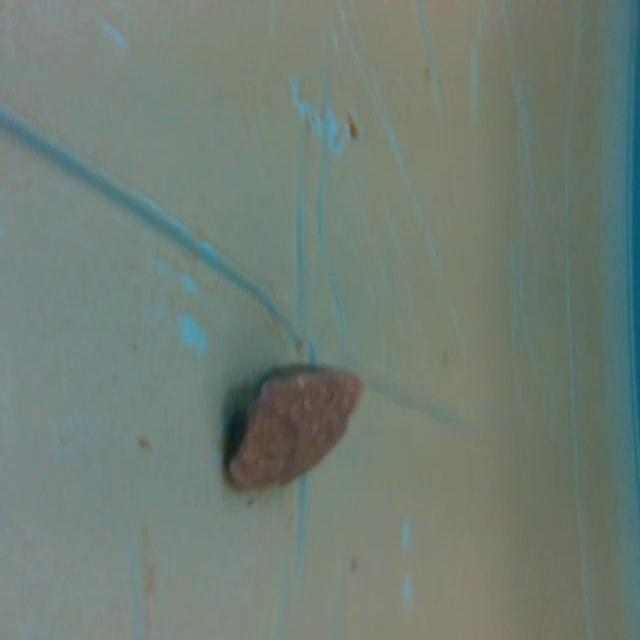rock: (221, 357, 370, 505)
